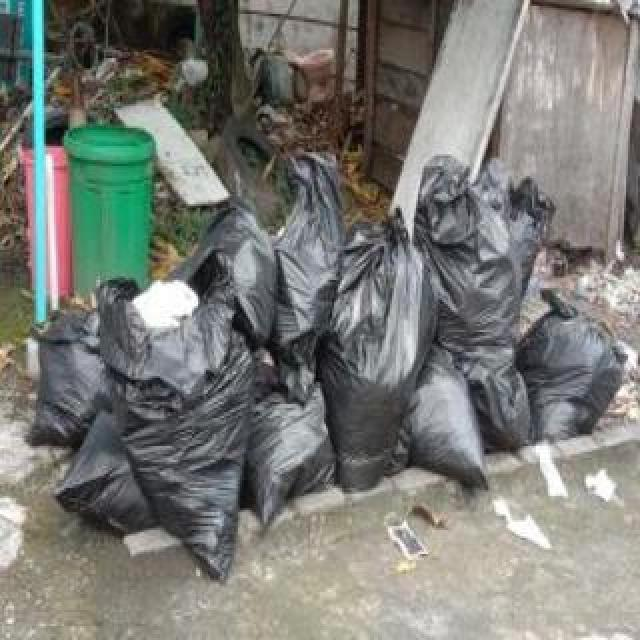Trashbag: (100, 288, 260, 585), (415, 160, 548, 456), (323, 218, 444, 495), (169, 196, 289, 307), (538, 304, 630, 440), (26, 308, 112, 448), (252, 388, 336, 518)
